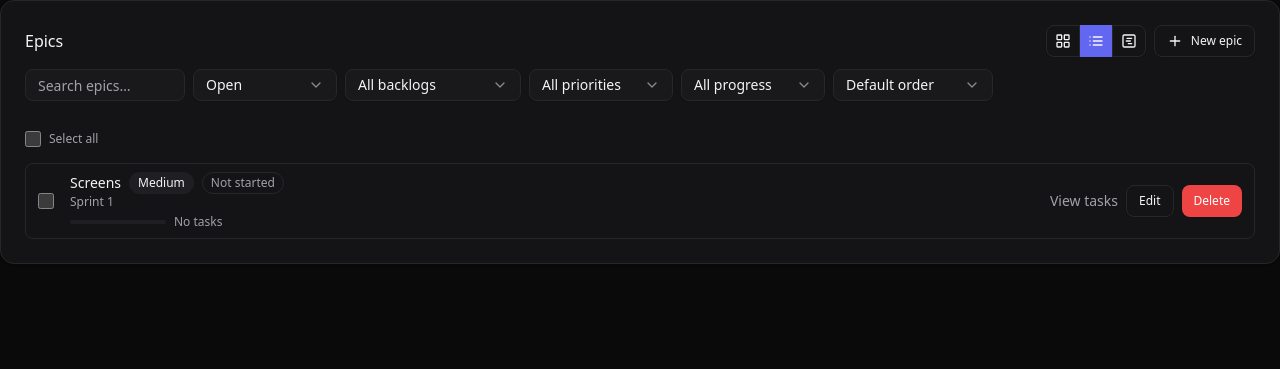
Test case: the status filter › Bulk actions › reports a wholesale failure and keeps the selection
Click the checkbox named "Select Screens". click: (46, 201)
box: [38, 193, 54, 209]
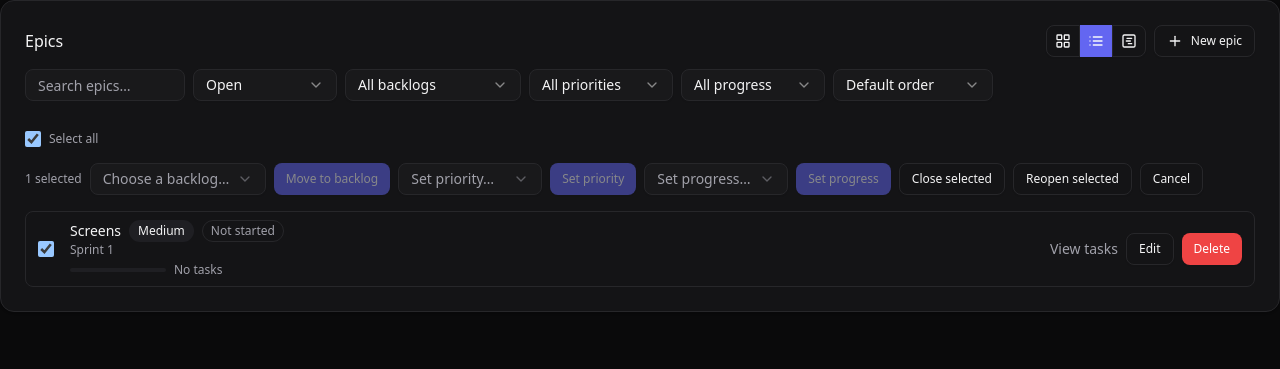
Click the button "Close selected". click: (952, 179)
box: [899, 163, 1005, 195]
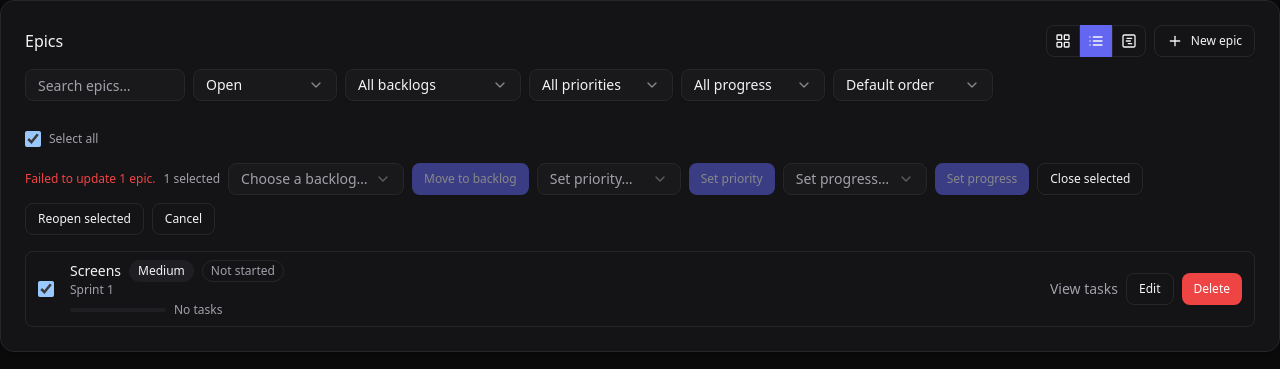
Expected: the text "1 selected" is shown, [164, 171, 220, 187]
Expected: the text "Failed to update 1 epic." is shown, [25, 171, 156, 187]
